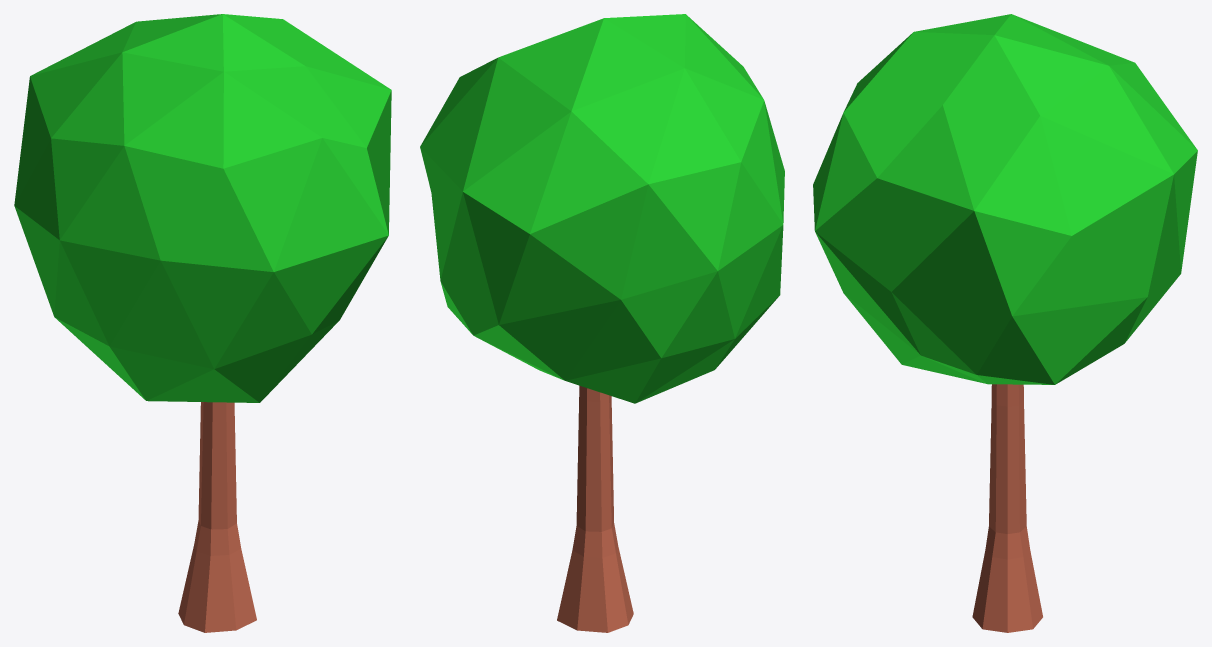
File: TreeD.fbx
3 views of the same model, side by side, from view 1: azimuth 30°, elevation 25°; view 2: azimuth 150°, elevation 25°; view 3: azimuth 270°, elevation 25° (orthographic). The views are drawn at different scales.
Visible parts, largest first — view 1: Icosphere.006, Cube.015; view 2: Icosphere.006, Cube.015; view 3: Icosphere.006, Cube.015.
Boxes of the visible parts, <box> form: Icosphere.006: <box>14,14,391,402</box>; Cube.015: <box>178,402,256,632</box>; Icosphere.006: <box>420,14,784,403</box>; Cube.015: <box>557,385,633,632</box>; Icosphere.006: <box>813,14,1197,384</box>; Cube.015: <box>972,384,1042,632</box>.
Bounding box in the file's own units: 505 × 862 × 517.
